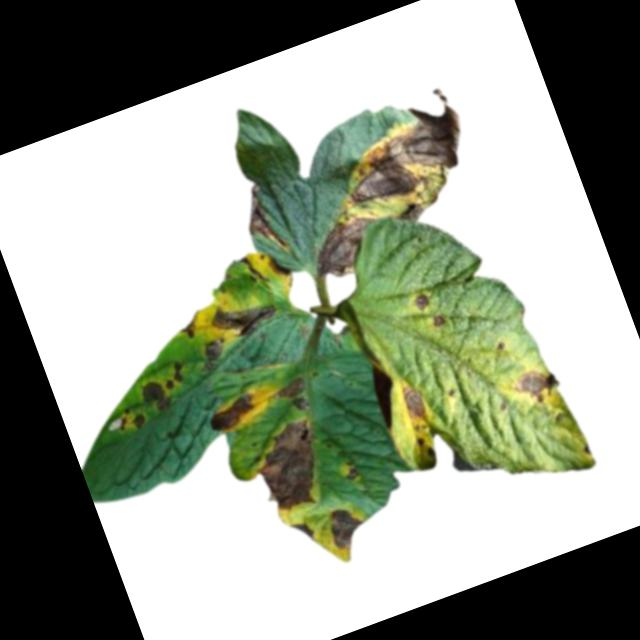Early_blight: (321, 85, 482, 222), (244, 414, 338, 518), (304, 212, 392, 286), (206, 287, 283, 351), (233, 181, 287, 261), (507, 359, 563, 411), (201, 388, 261, 436), (321, 500, 369, 552), (268, 372, 314, 420), (391, 193, 442, 229), (395, 378, 430, 427), (135, 376, 173, 416), (191, 334, 231, 372), (114, 402, 148, 436), (172, 311, 206, 343), (157, 358, 188, 391), (288, 515, 317, 547), (265, 251, 292, 279), (407, 289, 432, 315), (339, 456, 360, 481), (428, 310, 446, 329)
